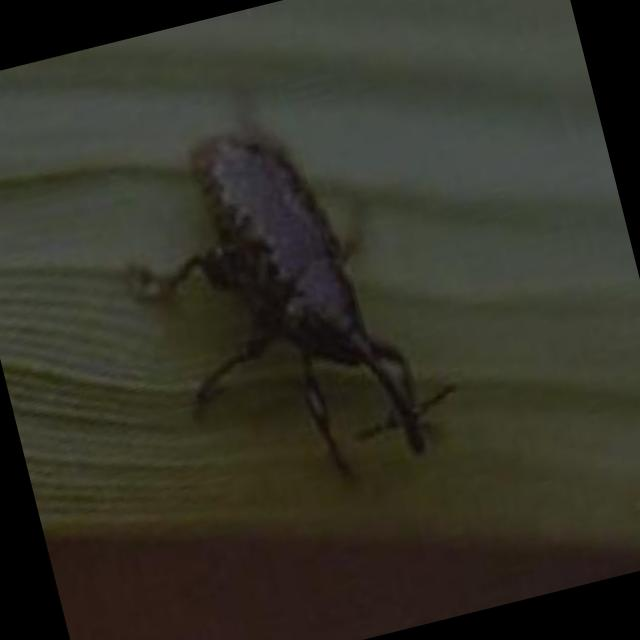rice-bug: (123, 99, 457, 510)
